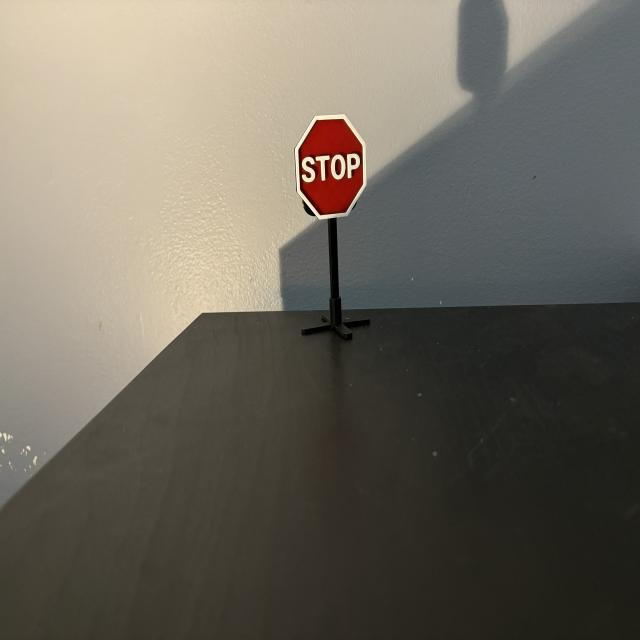sign_stop: (297, 116, 368, 220)
